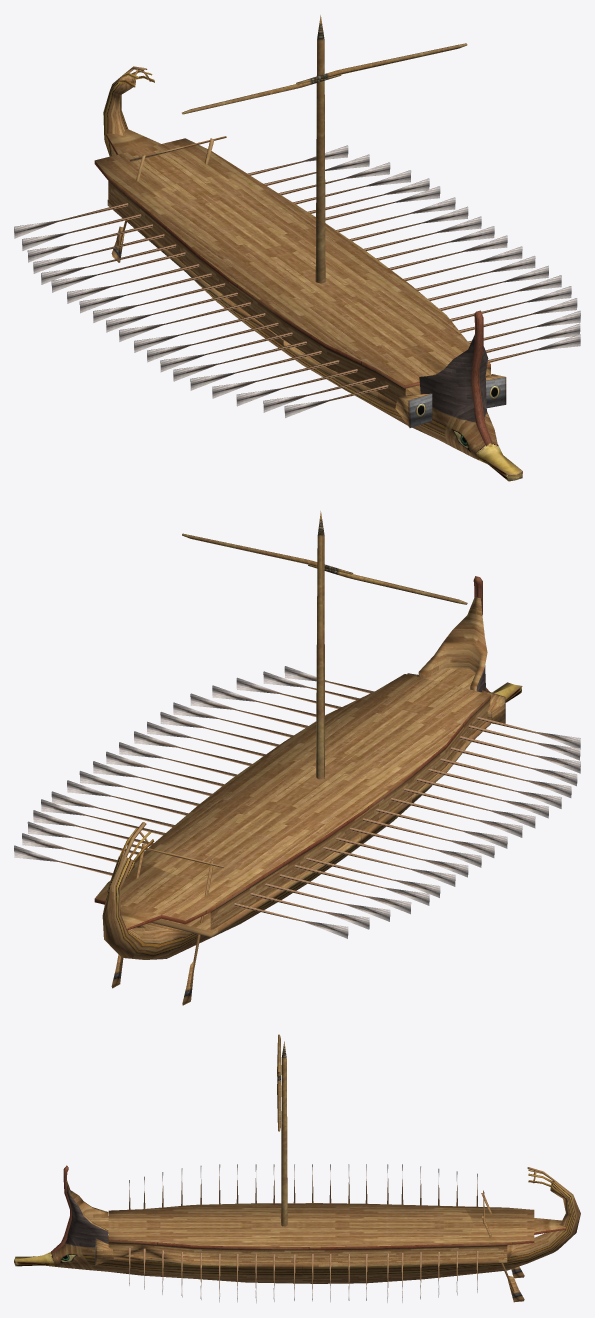
Rendered from hele_trireme.dae.
The picture shows the model from 3 angles, top to bottom: view 1: azimuth 30°, elevation 25°; view 2: azimuth 150°, elevation 25°; view 3: azimuth 270°, elevation 25°; orthographic projection. The views are drawn at different scales.
Visible parts, largest first — view 1: Circle_000_lib; view 2: Circle_000_lib; view 3: Circle_000_lib.
Part boxes in pixels (x1,y1,x2,y2): Circle_000_lib: [14, 15, 580, 481]; Circle_000_lib: [14, 511, 580, 1005]; Circle_000_lib: [14, 1034, 580, 1303].
Size of the model in its own units: 13.54 by 12.05 by 24.79.
